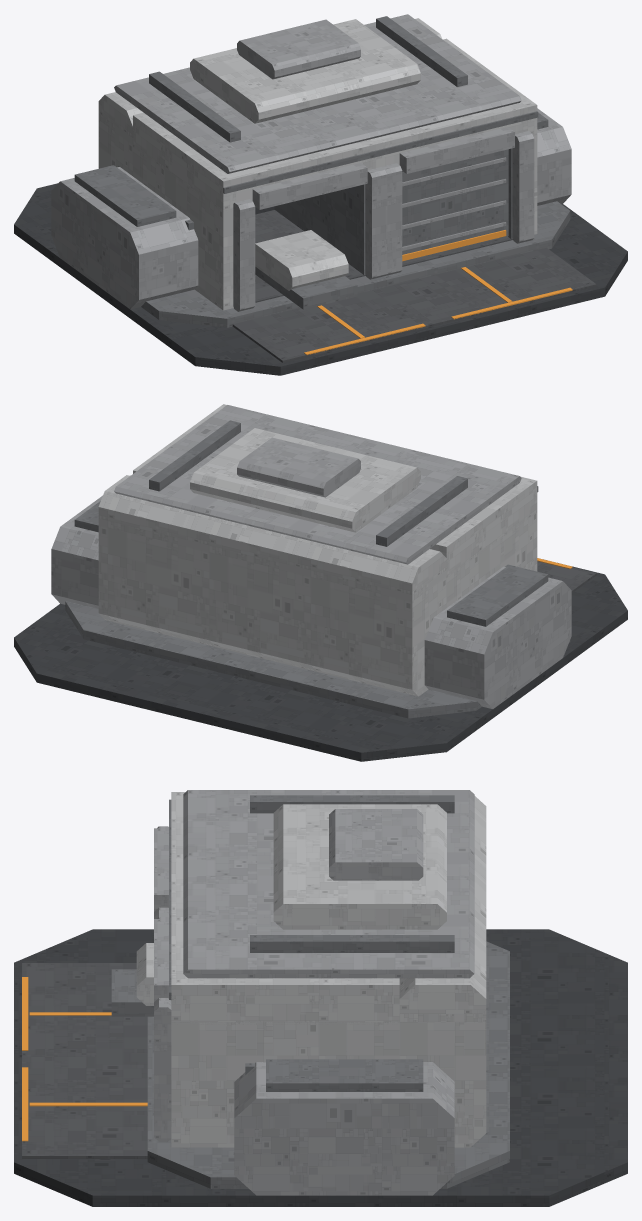
Rendered from resourceBay_lod2.glb.
The picture shows the model from 3 angles, top to bottom: view 1: azimuth 30°, elevation 25°; view 2: azimuth 150°, elevation 25°; view 3: azimuth 270°, elevation 25°; orthographic projection. The views are drawn at different scales.
Parts seen in each view (by area): view 1: resourceBay_base_body.002, resourceBay_door_body.002, resourceBay_harvester_body.002, resourceBay_base_trim.002, resourceBay_door_trim.002; view 2: resourceBay_base_body.002; view 3: resourceBay_base_body.002, resourceBay_harvester_body.002, resourceBay_base_trim.002.
Part boxes in pixels (bbox=[...]): resourceBay_base_body.002: bbox=[14, 14, 627, 375]; resourceBay_door_body.002: bbox=[402, 149, 508, 262]; resourceBay_harvester_body.002: bbox=[255, 230, 357, 309]; resourceBay_base_trim.002: bbox=[304, 267, 572, 354]; resourceBay_door_trim.002: bbox=[402, 230, 506, 261]; resourceBay_base_body.002: bbox=[14, 404, 627, 761]; resourceBay_base_body.002: bbox=[14, 790, 627, 1206]; resourceBay_harvester_body.002: bbox=[111, 943, 153, 1016]; resourceBay_base_trim.002: bbox=[22, 977, 147, 1141].
Bounding box in the file's own units: 4 × 1.67 × 3.9.
Materials: 3 (1 with a texture image).
